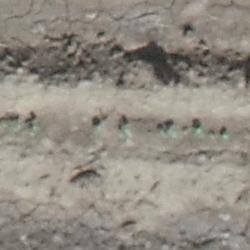cotton: (168, 125, 176, 135), (31, 122, 39, 130), (123, 124, 129, 133), (209, 131, 215, 138), (195, 124, 200, 132), (97, 123, 103, 129), (221, 132, 227, 138)
